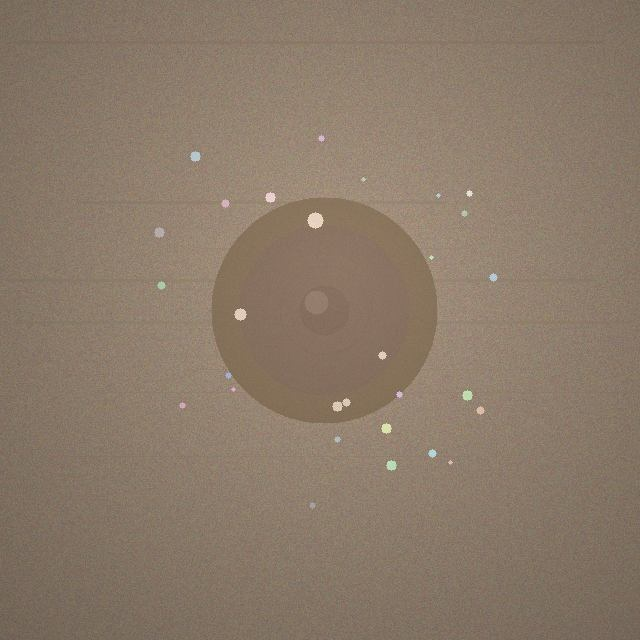overburn: (211, 197, 437, 423)
